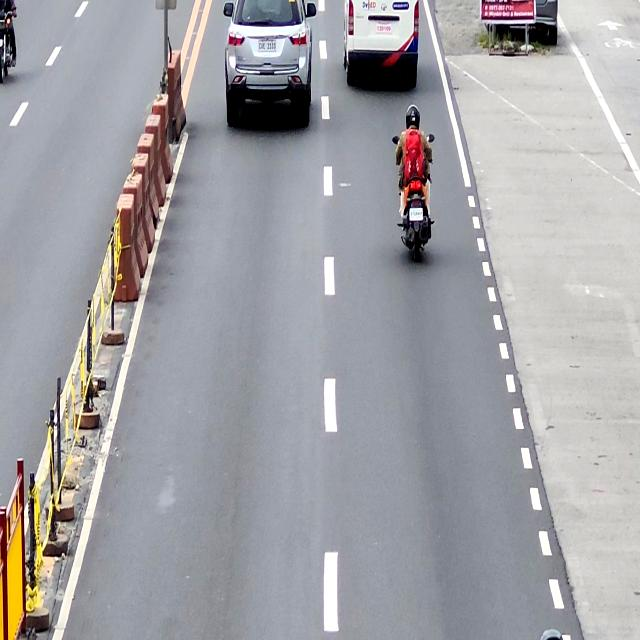Car: (223, 0, 317, 126), (343, 0, 419, 88)
License-Plate: (375, 22, 393, 36), (258, 40, 277, 53), (408, 208, 422, 221)
Motorcycle: (392, 136, 433, 264)
